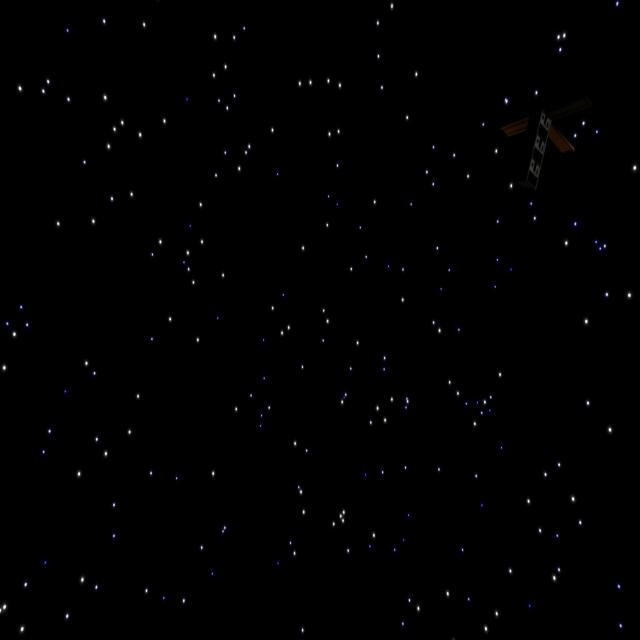satellite: (491, 95, 576, 193)
